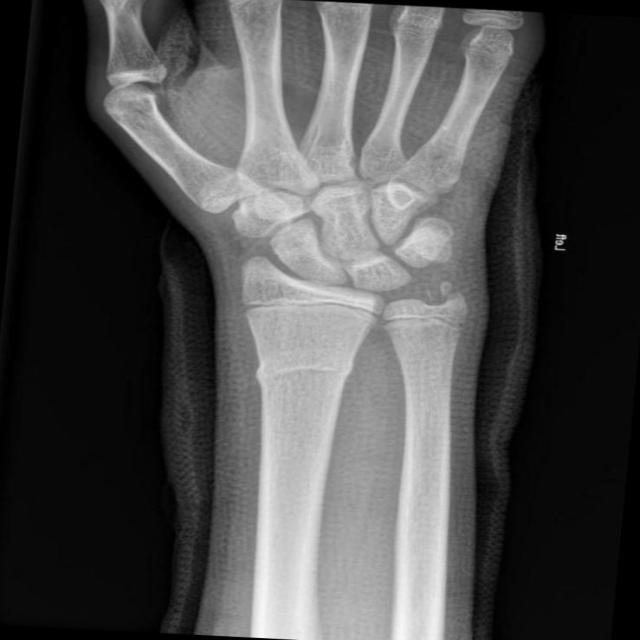Transverse Displaced: (246, 338, 367, 400)
